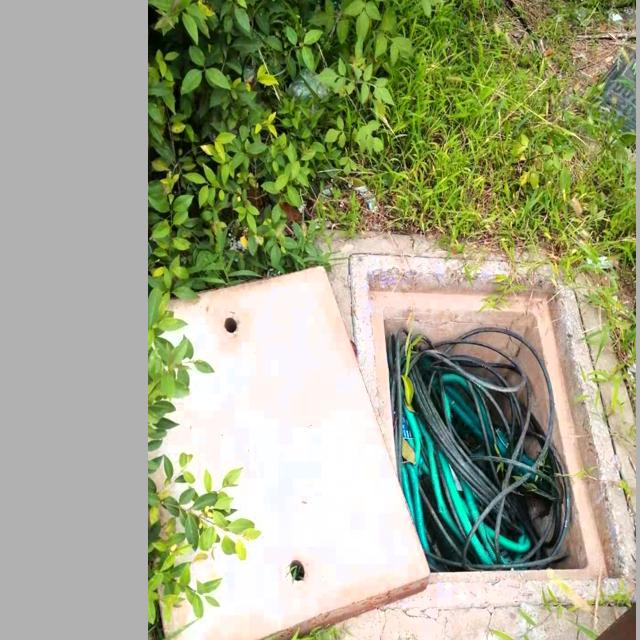uncovered: (148, 265, 636, 640)
